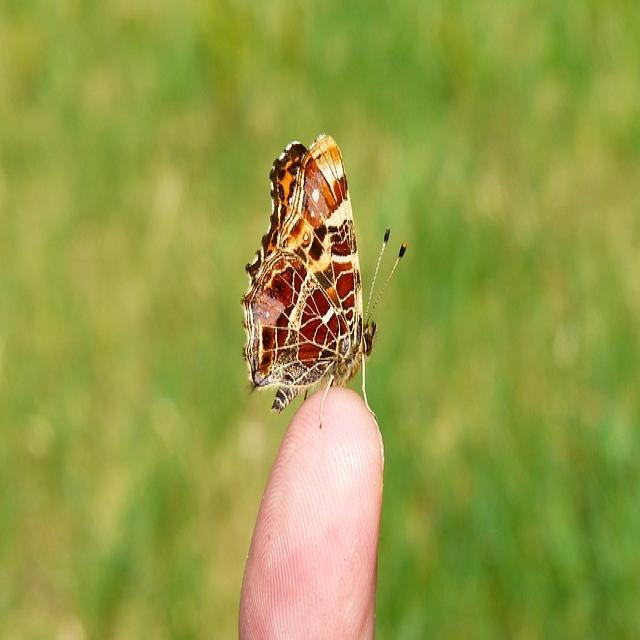butterfly: (241, 133, 376, 414)
